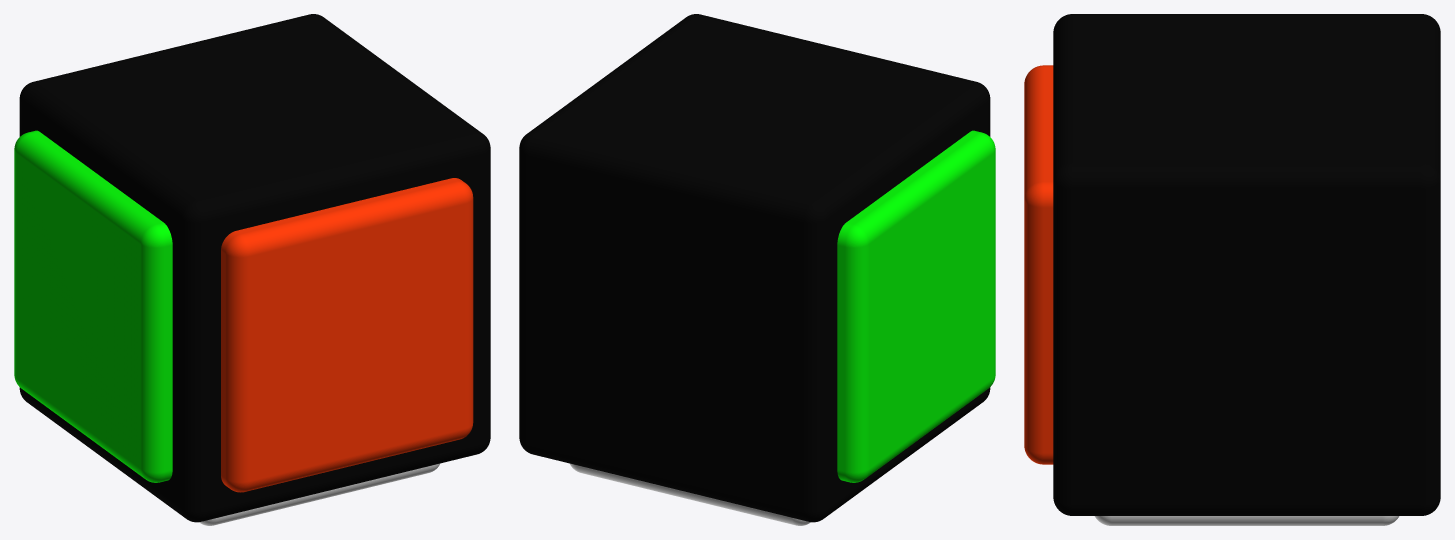
File: cubinho(1, -1, 1).obj
The picture shows the model from 3 angles, left to right: view 1: azimuth 30°, elevation 25°; view 2: azimuth 150°, elevation 25°; view 3: azimuth 270°, elevation 25°; orthographic projection. The views are drawn at different scales.
Visible parts, largest first — view 1: (1,_-1,_1); view 2: (1,_-1,_1); view 3: (1,_-1,_1).
Boxes of the visible parts, box(x1,y1,x2,y2) form: (1,_-1,_1): box(14, 14, 490, 525); (1,_-1,_1): box(519, 14, 995, 525); (1,_-1,_1): box(1024, 14, 1440, 525).
Bounding box in the file's own units: 2.15 × 2.15 × 2.15.
